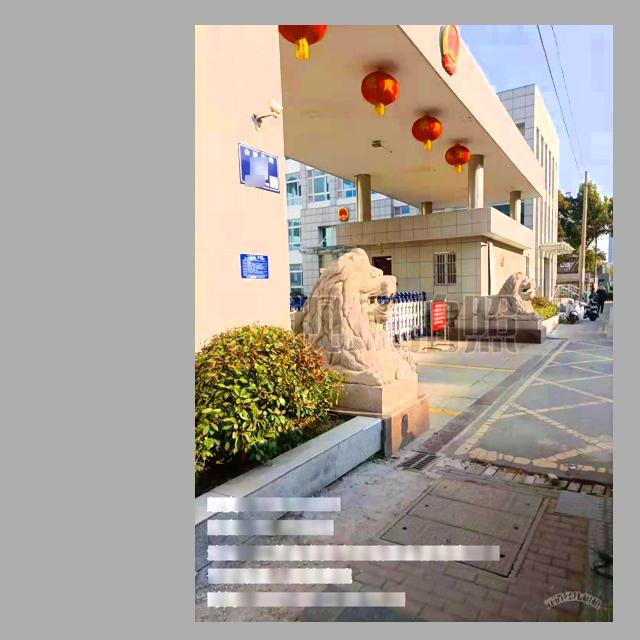good: (372, 471, 551, 583)
